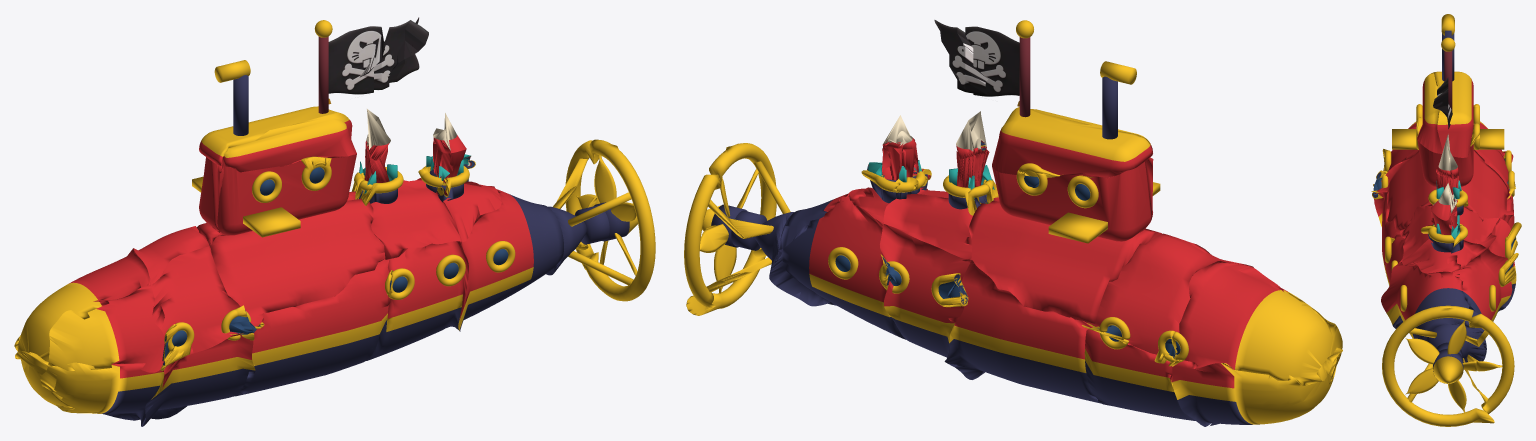
Rendered from pieces-3.glb.
The picture shows the model from 3 angles, left to right: view 1: azimuth 30°, elevation 25°; view 2: azimuth 150°, elevation 25°; view 3: azimuth 270°, elevation 25°; orthographic projection. The views are drawn at different scales.
Visible parts, largest first — view 1: piece10, piece8, piece26, piece20, piece13, piece2, piece14, piece6, piece16, piece4, piece3, piece0 (+8 smaller); view 2: piece11, piece3, piece13, piece9, piece21, piece7, piece1, piece15, piece26, piece5, piece17, piece27 (+4 smaller); view 3: piece26, piece20, piece10, piece13, piece11, piece21, piece22, piece27, piece16, piece17, piece12, piece15 (+9 smaller).
Boxes of the visible parts, x1,y1,x2,y2 form: piece10: (210, 150, 385, 330); piece8: (233, 259, 391, 396); piece26: (546, 139, 655, 301); piece20: (458, 186, 563, 331); piece13: (199, 20, 384, 165); piece2: (48, 283, 176, 372); piece14: (366, 241, 468, 360); piece6: (152, 246, 252, 365); piece16: (360, 141, 460, 259); piece4: (141, 331, 255, 426); piece3: (15, 248, 150, 364); piece0: (47, 362, 165, 426); piece11: (962, 153, 1161, 323); piece3: (1172, 260, 1342, 385); piece13: (965, 20, 1152, 177); piece9: (943, 260, 1100, 403); piece21: (769, 196, 905, 339); piece7: (1082, 233, 1237, 362); piece1: (1169, 349, 1342, 426); piece15: (880, 223, 983, 376); piece26: (686, 143, 794, 315); piece5: (1084, 327, 1195, 420); piece17: (883, 146, 979, 259); piece27: (684, 174, 778, 315); piece26: (1382, 305, 1494, 426); piece20: (1381, 262, 1485, 361); piece10: (1371, 104, 1442, 230); piece13: (1431, 14, 1479, 157); piece11: (1453, 104, 1513, 225); piece21: (1453, 249, 1518, 331); piece22: (1402, 210, 1460, 273); piece27: (1467, 313, 1514, 414); piece16: (1400, 172, 1451, 261); piece17: (1450, 176, 1496, 248); piece12: (1416, 73, 1442, 153); piece15: (1487, 219, 1521, 311).
Bounding box in the file's own units: 1.14 × 0.6108 × 0.2947.
Materials: 5 (5 with a texture image).
